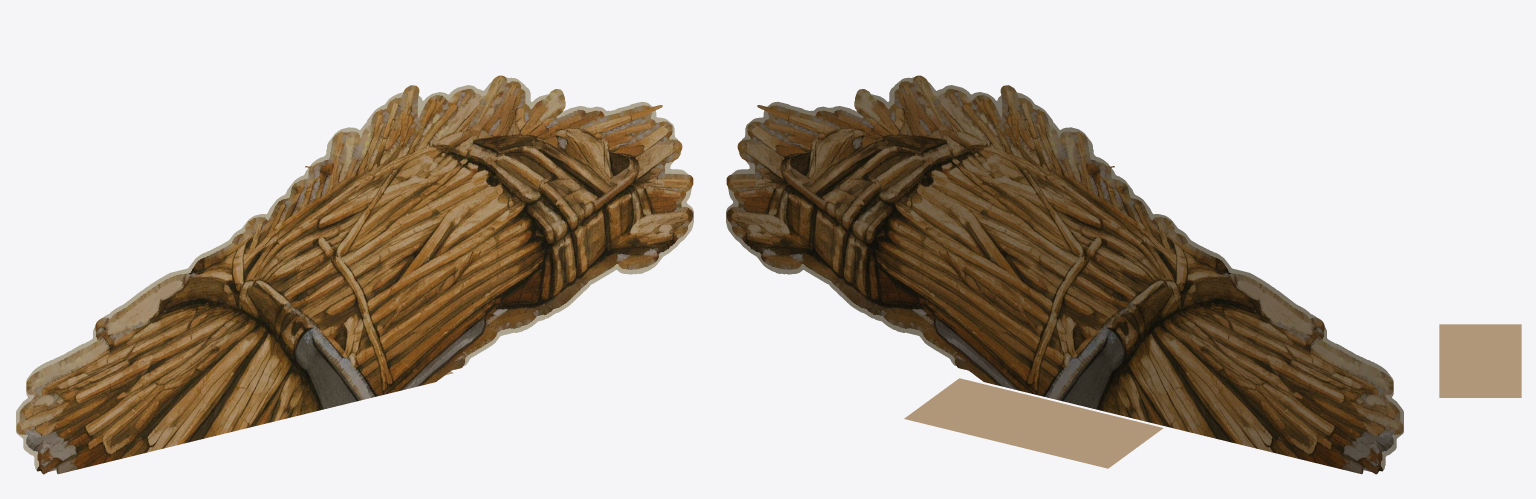
File: toad-prop-straw-bundle.glb
3 renders of one model, left to right at view 1: azimuth 30°, elevation 25°; view 2: azimuth 150°, elevation 25°; view 3: azimuth 270°, elevation 25°, orthographic. The views are drawn at different scales.
Visible parts, largest first — view 1: straw-bundle; view 2: straw-bundle; view 3: straw-bundle.
Part boxes in pixels (<box>): straw-bundle: <box>16,75,693,474</box>; straw-bundle: <box>726,75,1403,474</box>; straw-bundle: <box>1439,324,1521,397</box>.
Size of the model in its own units: 0.2334 by 0.0998 by 0.035.
Materials: 1 (1 with a texture image).
